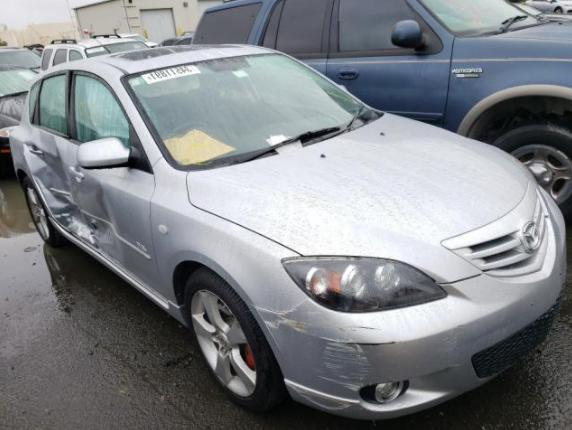Broken part: (69, 143, 165, 297), (26, 126, 92, 248), (66, 70, 74, 138)
Dent: (26, 131, 92, 248), (72, 179, 121, 263)
Scratch: (323, 338, 372, 391), (294, 385, 351, 410), (265, 316, 315, 332), (336, 324, 380, 332), (319, 375, 346, 388), (352, 340, 398, 346)
